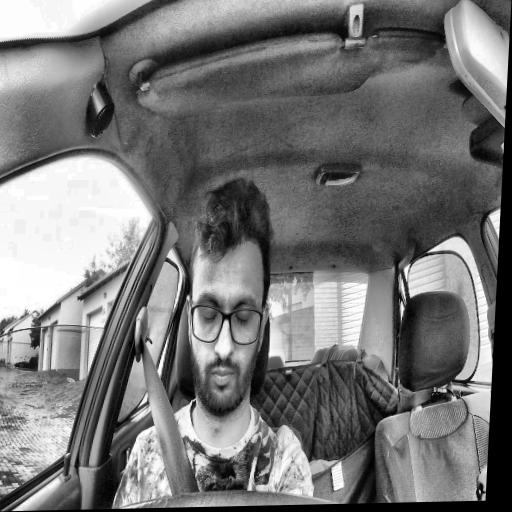drowsy: (179, 175, 276, 418)
